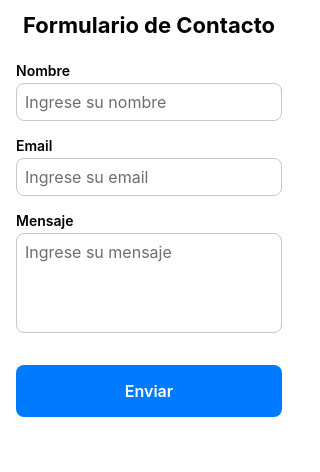
Form Component › Validation › shows error when email is invalid
Type "John Doe" into the field with test id "name-input". click: (149,102)
box: [16,83,282,121]
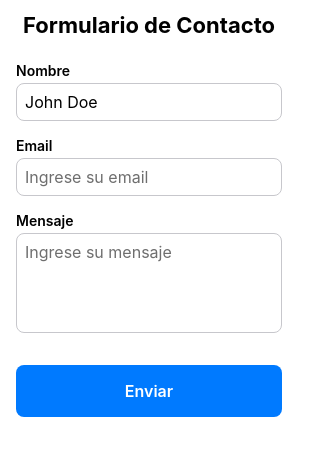
Type "invalid-email" into the field with test id "email-input". click: (149,177)
box: [16,158,282,196]
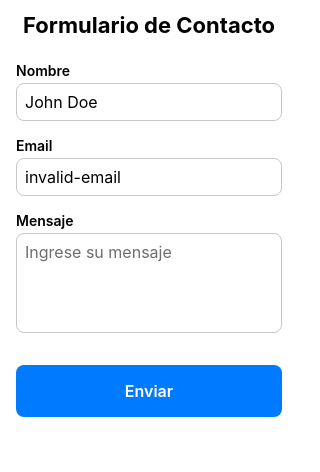
Click the element with test id "submit-button". click: (149,391)
box: [16,365,282,417]
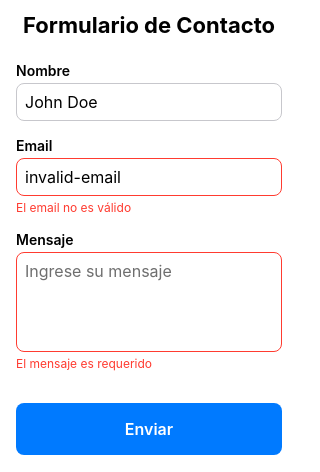
Expected: the text with test id "email-error" reads "El email no es válido", [16,200,131,215]
